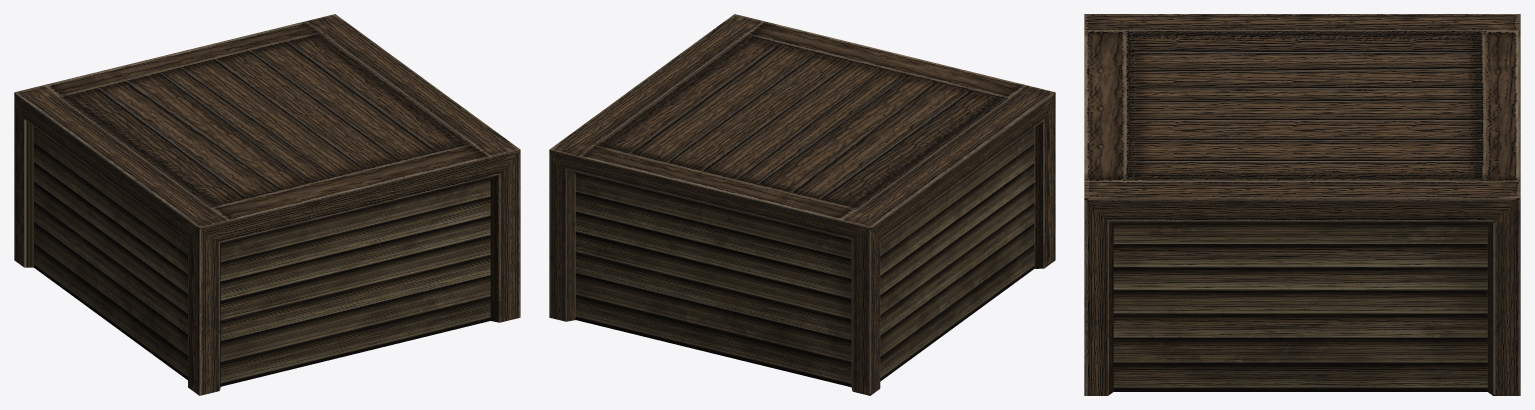
Rendered from House_6X6_03c.fbx.
3 views of the same model, side by side, from view 1: azimuth 30°, elevation 25°; view 2: azimuth 150°, elevation 25°; view 3: azimuth 270°, elevation 25° (orthographic). The views are drawn at different scales.
Visible parts, largest first — view 1: House_6X6_03c; view 2: House_6X6_03c; view 3: House_6X6_03c.
Boxes of the visible parts, bbox=[...] form: House_6X6_03c: bbox=[14, 14, 520, 395]; House_6X6_03c: bbox=[549, 14, 1055, 395]; House_6X6_03c: bbox=[1084, 14, 1520, 395].
Bounding box in the file's own units: 6 × 3 × 6.
